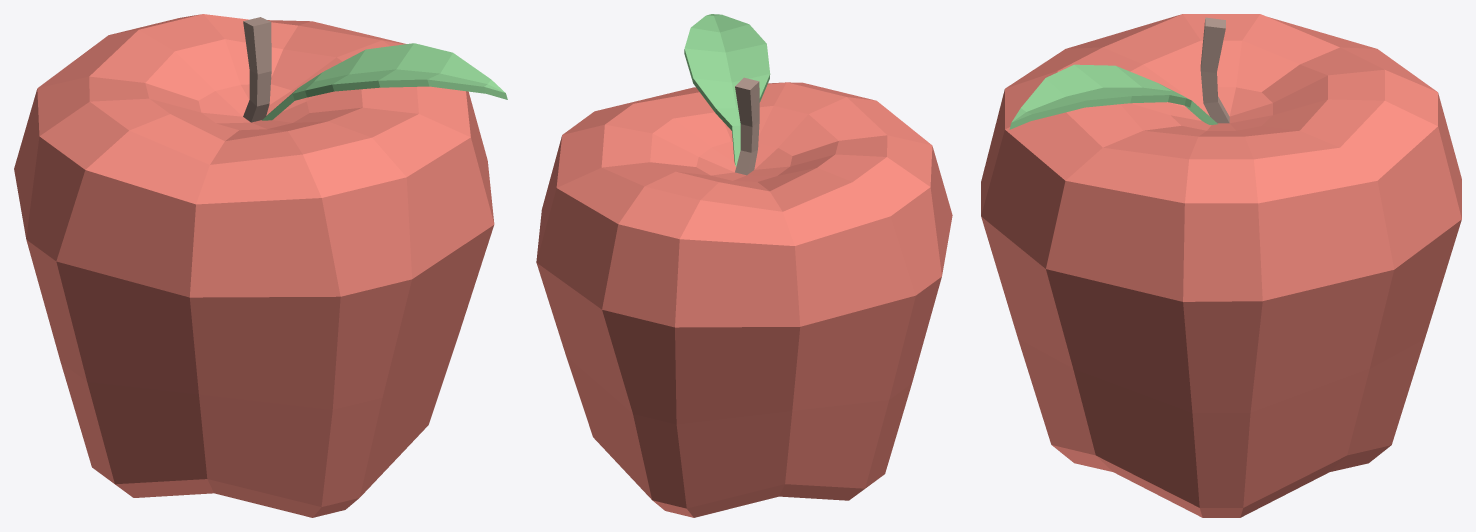
Rendered from Apple_01.gltf.
3 views of the same model, side by side, from view 1: azimuth 30°, elevation 25°; view 2: azimuth 150°, elevation 25°; view 3: azimuth 270°, elevation 25° (orthographic). The views are drawn at different scales.
Parts seen in each view (by area): view 1: node-0; view 2: node-0; view 3: node-0.
Boxes of the visible parts, x1,y1,x2,y2 form: node-0: (14, 14, 507, 517); node-0: (536, 14, 952, 517); node-0: (981, 14, 1461, 517).
Size of the model in its own units: 9.96 by 9.84 by 9.88.
